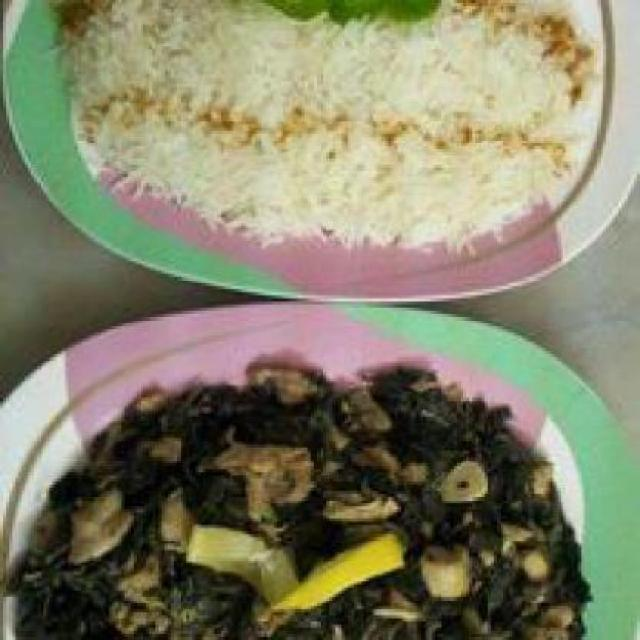molokhia: (16, 341, 593, 637)
